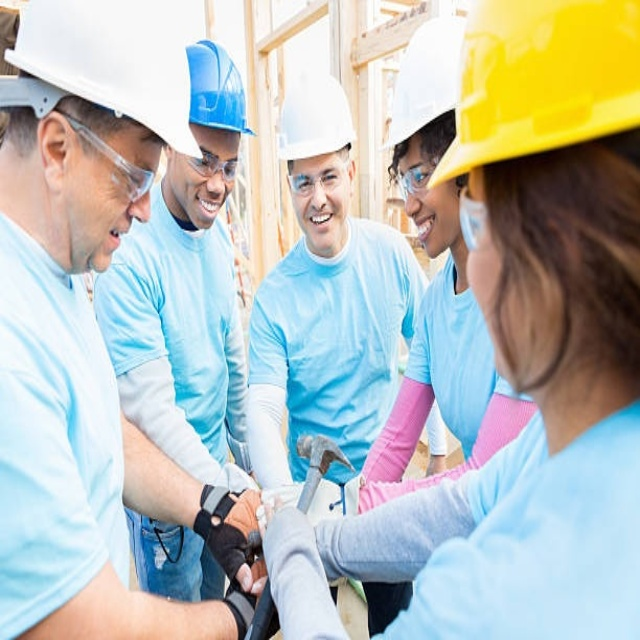Gafas: (55, 108, 157, 204), (282, 155, 353, 193), (456, 180, 494, 251), (183, 141, 236, 182), (392, 160, 431, 198)
Sin_mascara: (93, 221, 132, 268), (410, 212, 441, 256), (304, 207, 338, 242), (193, 190, 221, 226)
